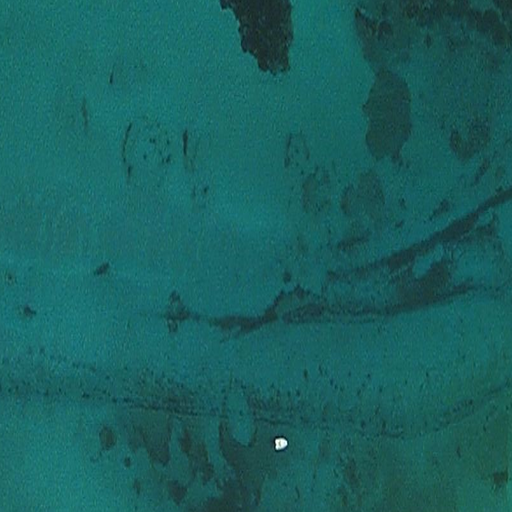ship: (271, 436, 291, 452)
